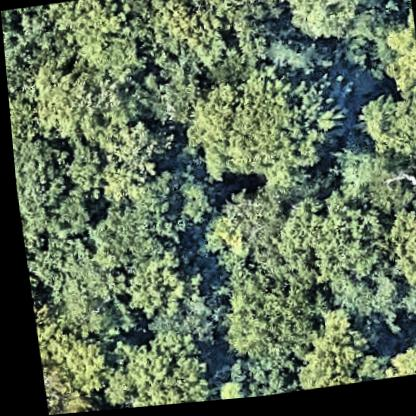tree-top: (175, 59, 342, 204), (266, 189, 374, 303), (87, 316, 215, 412), (16, 208, 116, 330), (82, 165, 201, 263), (208, 278, 315, 371), (281, 306, 381, 394), (27, 299, 101, 416), (43, 0, 143, 84), (173, 0, 277, 79), (113, 246, 199, 329), (108, 65, 204, 139), (88, 114, 161, 208), (214, 188, 290, 274), (24, 62, 100, 142), (10, 133, 81, 217), (267, 0, 375, 55), (372, 175, 416, 304), (356, 92, 416, 177), (336, 19, 403, 88), (0, 3, 69, 69), (369, 19, 416, 111), (219, 347, 291, 403), (375, 349, 416, 384), (407, 303, 416, 380)
